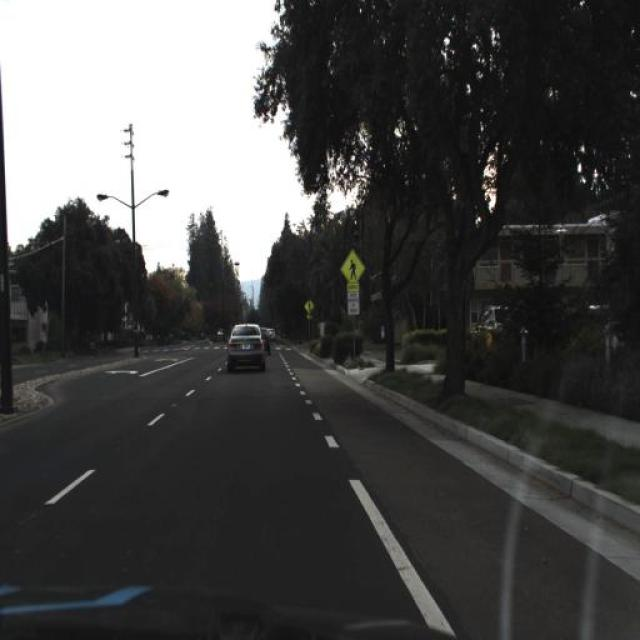car: (222, 322, 268, 379), (477, 304, 521, 346), (259, 321, 271, 364)
